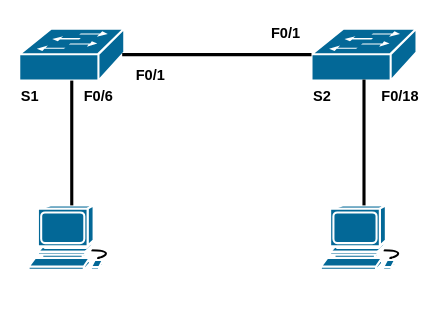
Image size: 448x312. Some labels were removed from this diagram. Here are the shapes that lost their labels. From the top down, the box of each, then its label:
(27, 204, 115, 270): PC-A
(319, 204, 408, 270): PC-B
